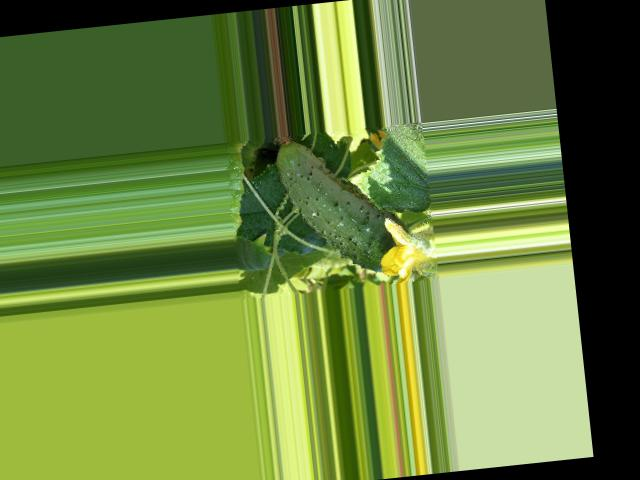cucumber: (272, 123, 412, 281)
